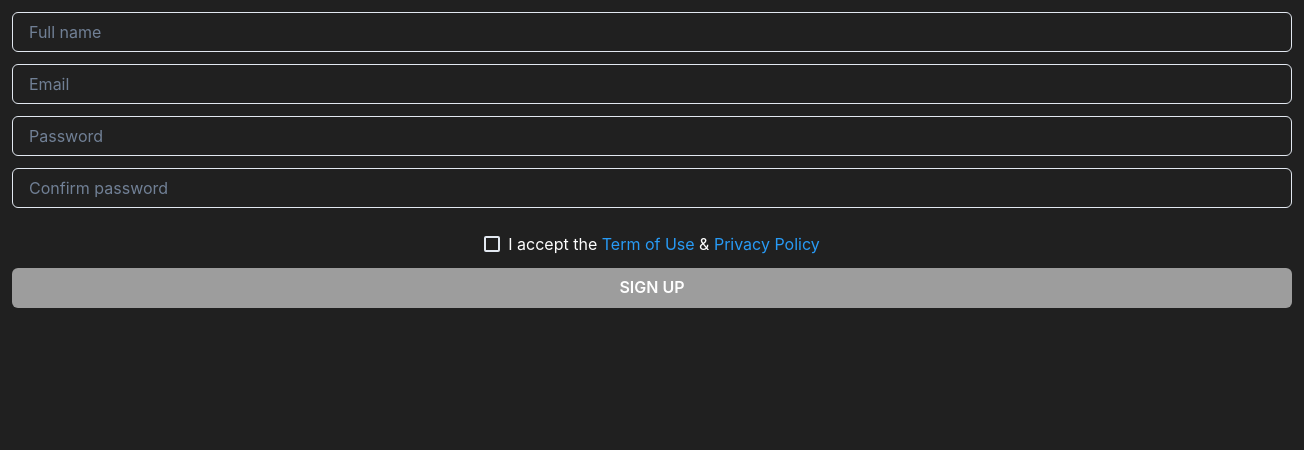
Test case: Test sign up form › checks if password not match
Type "abcd1234" into the password field with placeholder "Password" at coordinates (652, 136), box [12,116,1292,156]
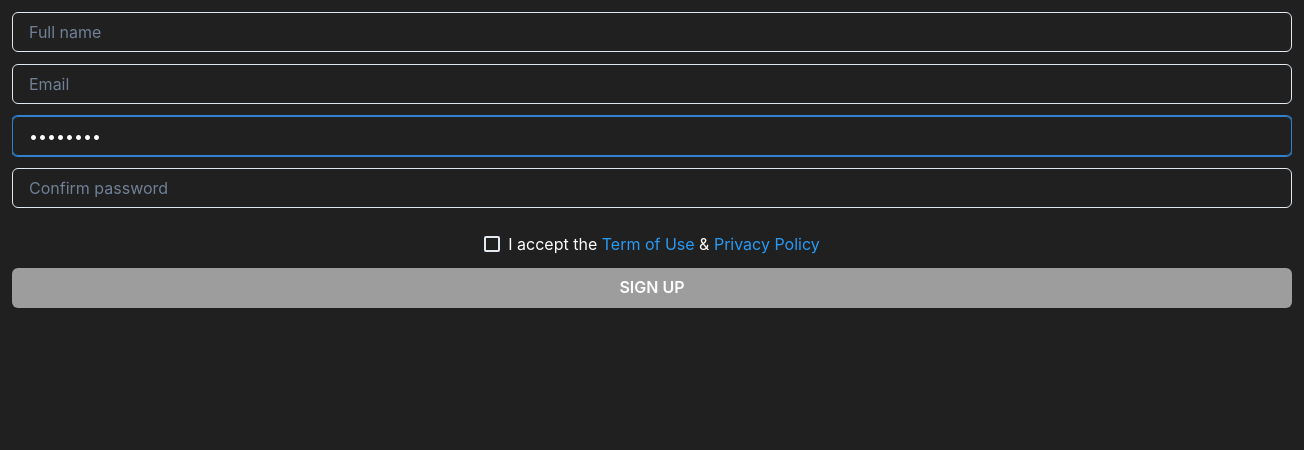
Type "abcd1235" into the password field with placeholder "Confirm password" at coordinates (652, 188), box [12,168,1292,208]
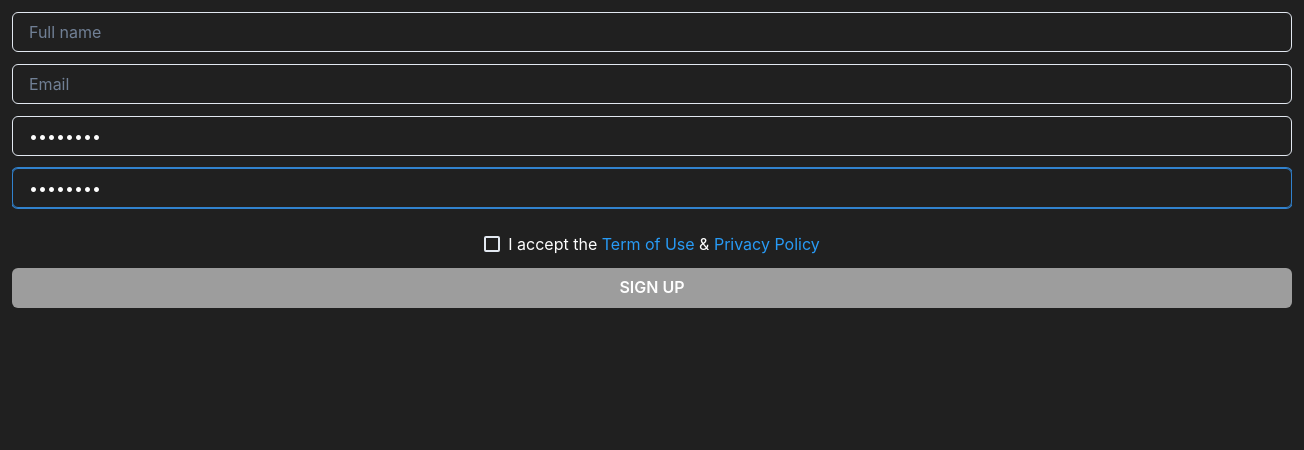
Click the button "Sign up" at coordinates (652, 288), box [12,268,1292,308]
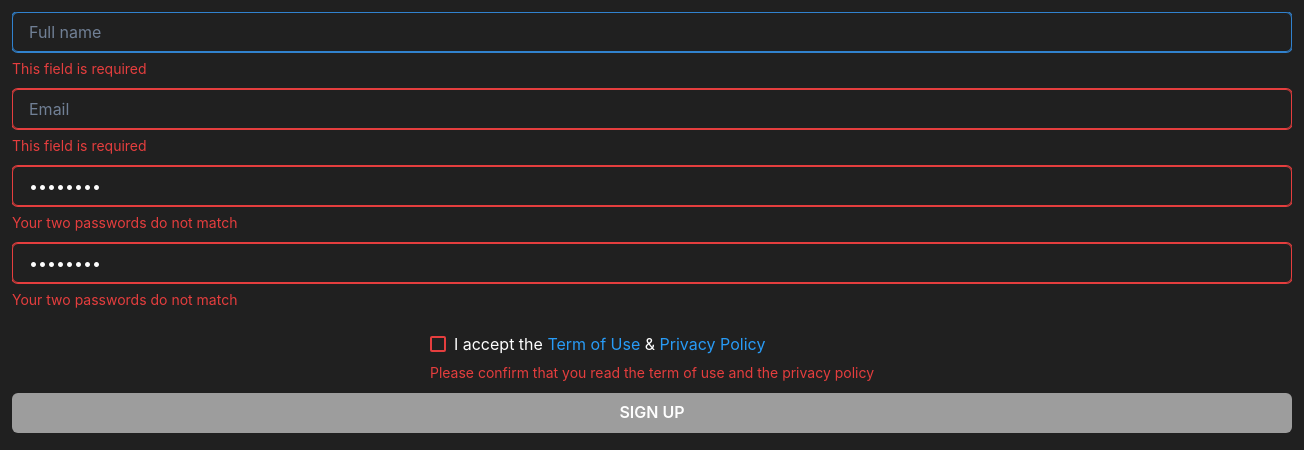
Expected: the text "Your two passwords do not match" is shown 2 times, [12,214,238,231]; [12,291,238,308]
